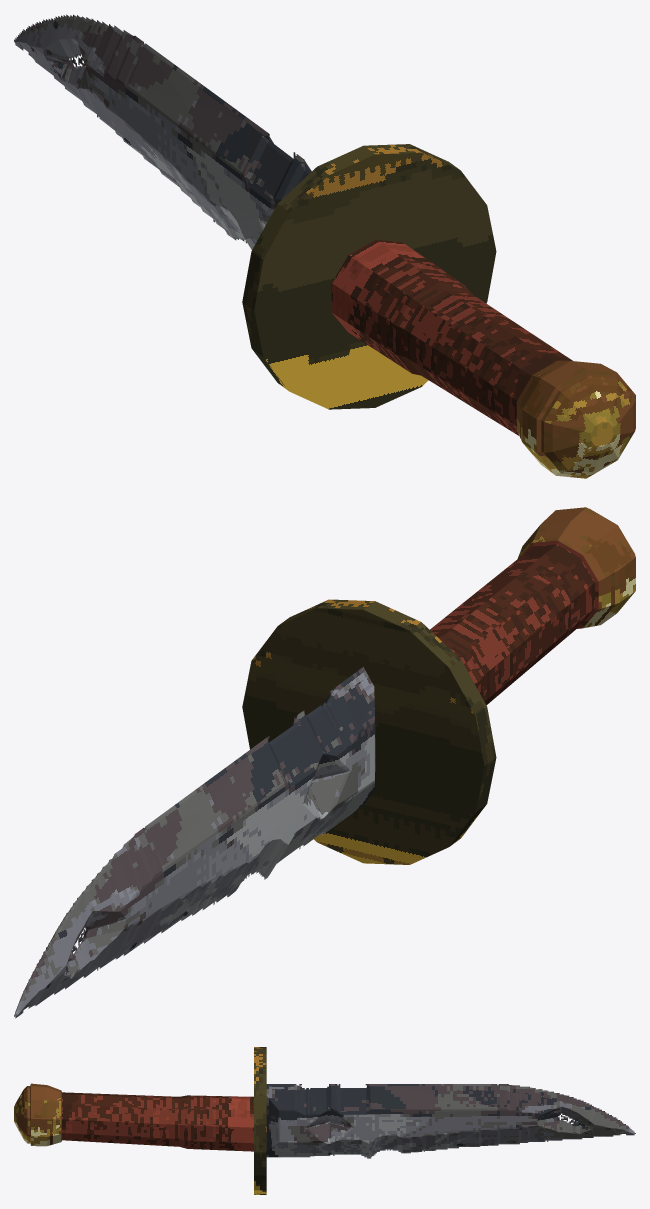
The model's file is tanto.glb.
3 views of the same model, one above another, from view 1: azimuth 30°, elevation 25°; view 2: azimuth 150°, elevation 25°; view 3: azimuth 270°, elevation 25° (orthographic). The views are drawn at different scales.
Visible parts, largest first — view 1: tsuba, blade, grip, cap; view 2: blade, tsuba, grip, cap; view 3: blade, grip, cap, tsuba.
Part boxes in pixels (x1,y1,x2,y2): tsuba: [242, 144, 496, 409]; blade: [14, 14, 311, 249]; grip: [331, 239, 572, 435]; cap: [516, 360, 635, 478]; blade: [14, 667, 375, 1018]; tsuba: [242, 599, 496, 864]; grip: [430, 540, 598, 705]; cap: [517, 507, 635, 628]; blade: [266, 1084, 635, 1158]; grip: [61, 1091, 253, 1151]; cap: [14, 1083, 61, 1146]; tsuba: [254, 1047, 266, 1194].
Bounding box in the file's own units: 0.0946 × 0.0946 × 0.3977.
Materials: 2 (2 with a texture image).
